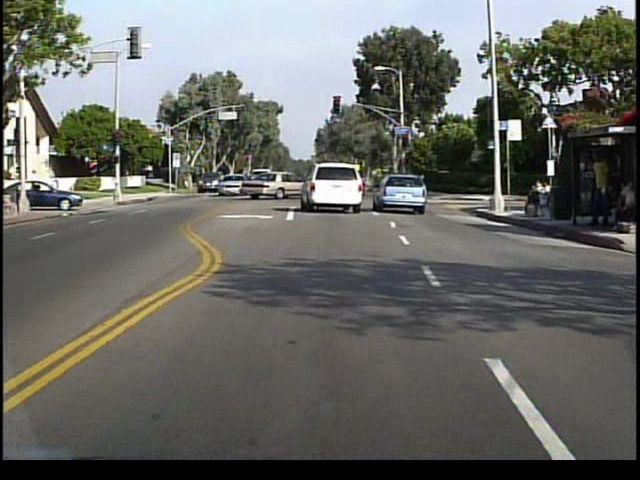person: (526, 178, 544, 216), (543, 178, 553, 214)
